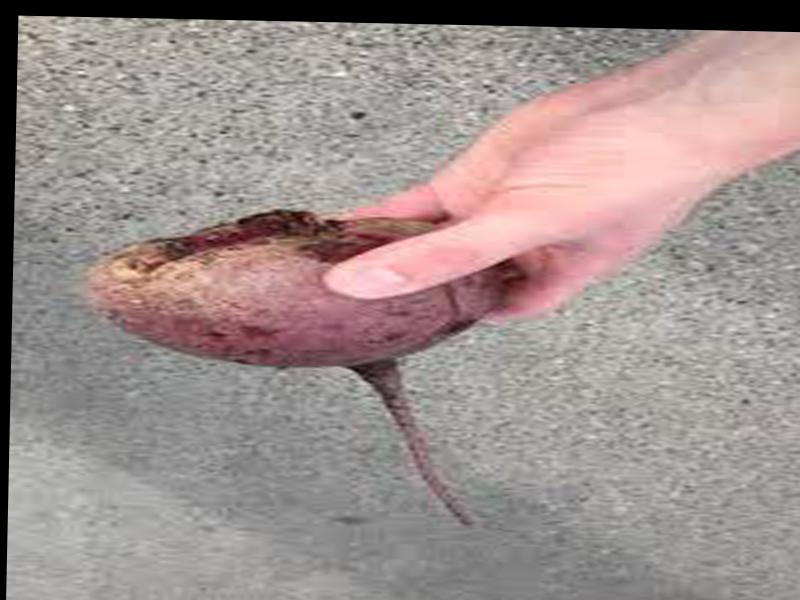Beet: (83, 206, 494, 525)
